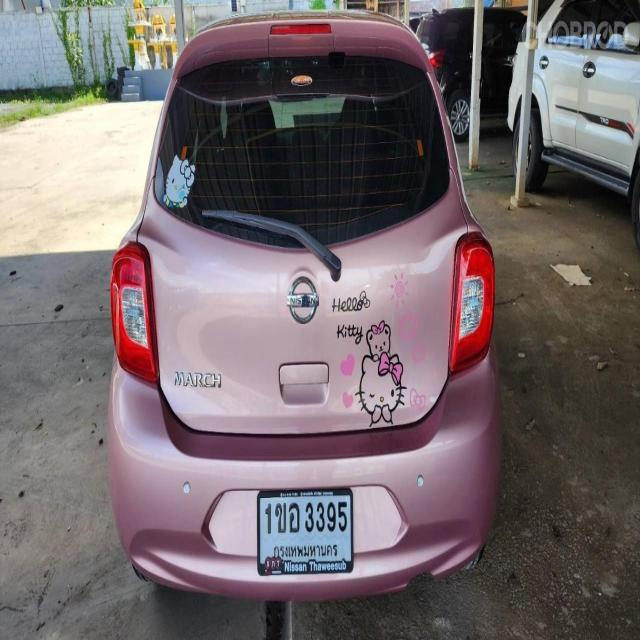license_plate: (255, 486, 356, 583)
